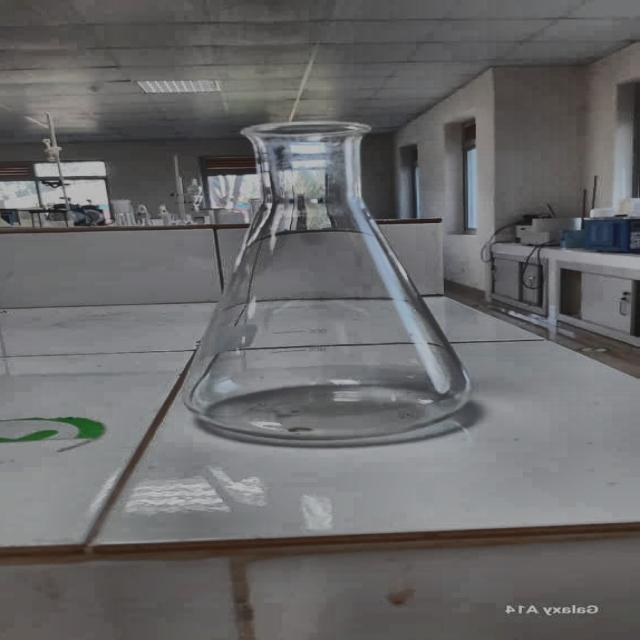Conical Flask: (163, 121, 491, 451)
